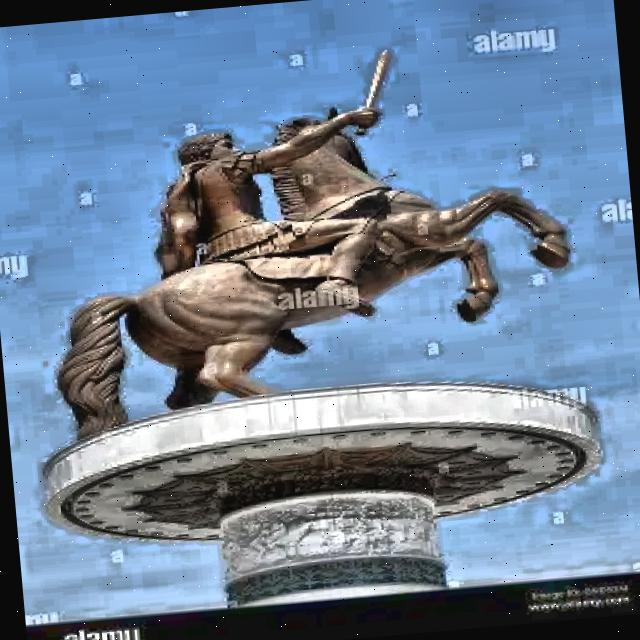alexander the great monument: (0, 29, 627, 629)
